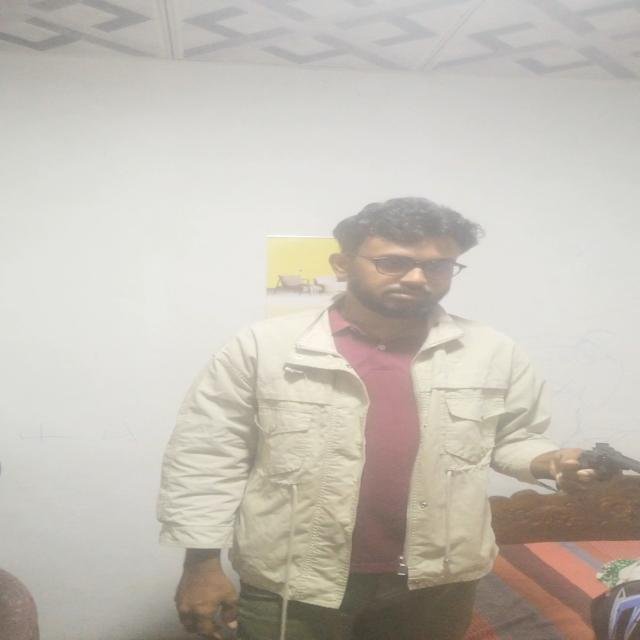Gun_Holder: (542, 430, 640, 512)
Jacket_Wearer: (166, 297, 578, 640)
Person: (167, 186, 639, 640)
